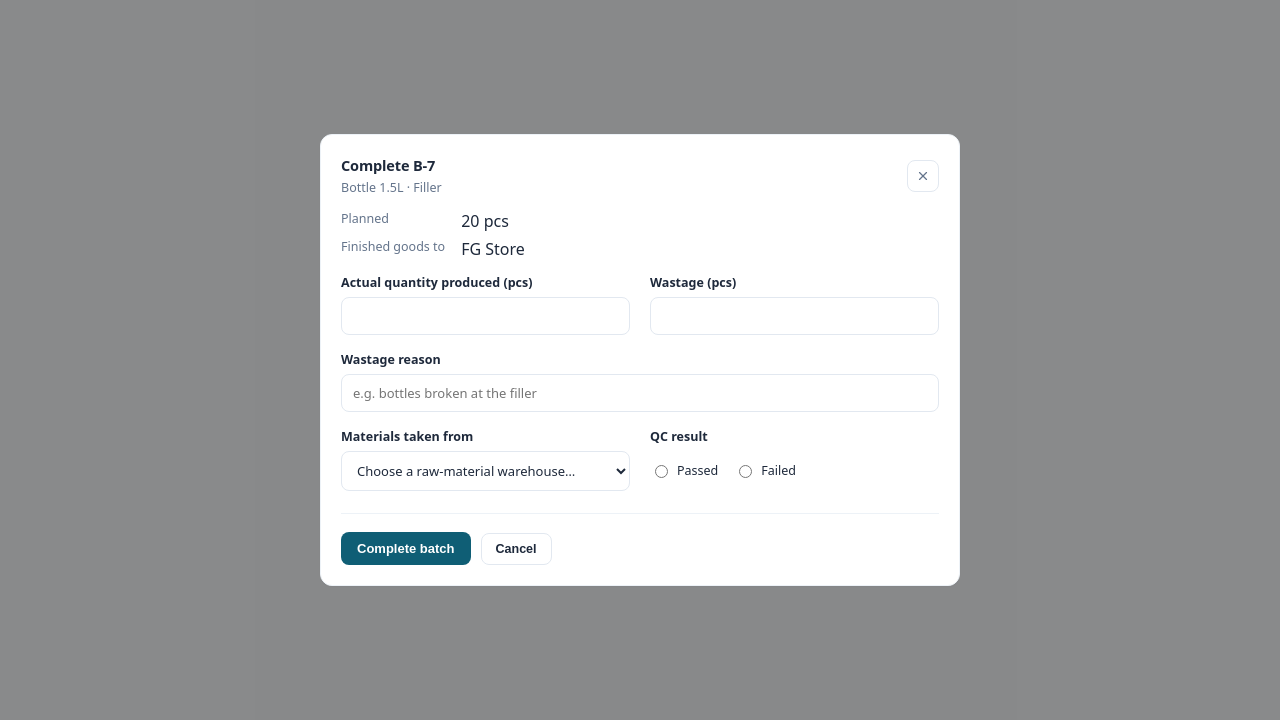
Test: Complete batch panel › requires a materials warehouse and a QC result, with a clear message, before calling the server
This screenshot has width=1280, height=720.
Type "20" into the number field labelled "Actual quantity produced (pcs)" at (486, 316), box [341,297,630,335]
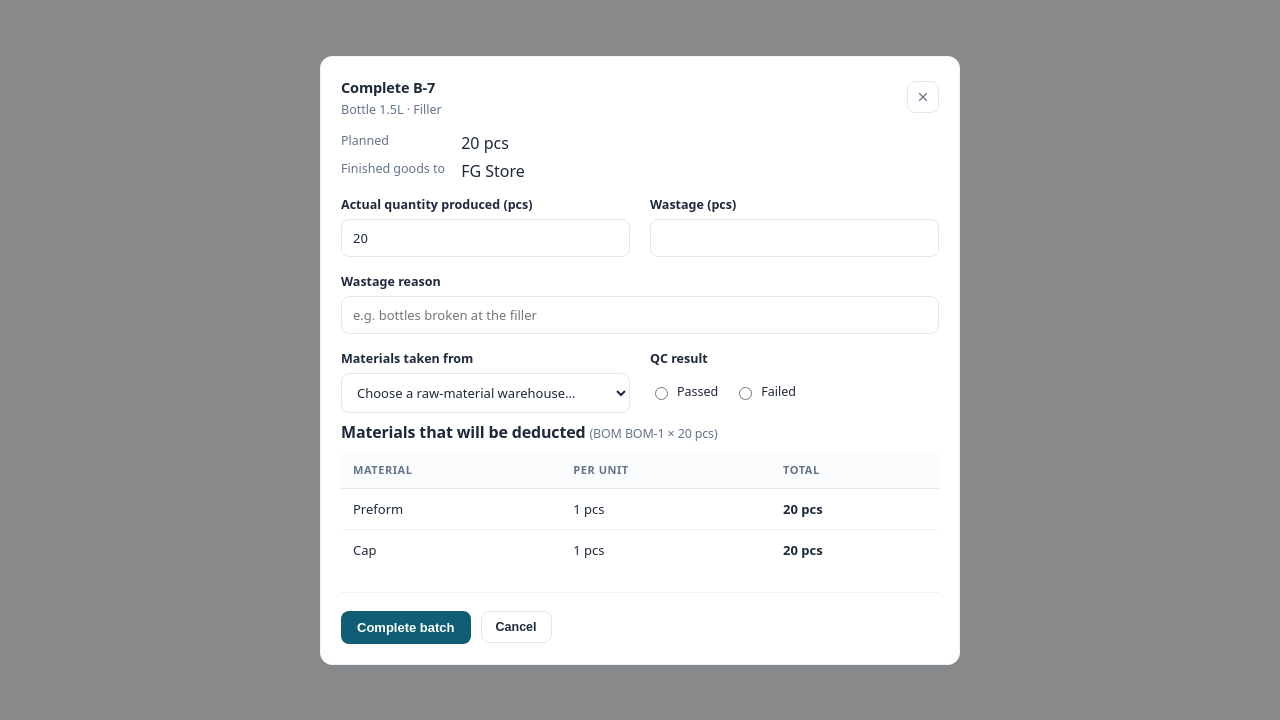
Click the button "Complete batch" at (406, 627), box [341,610,470,644]
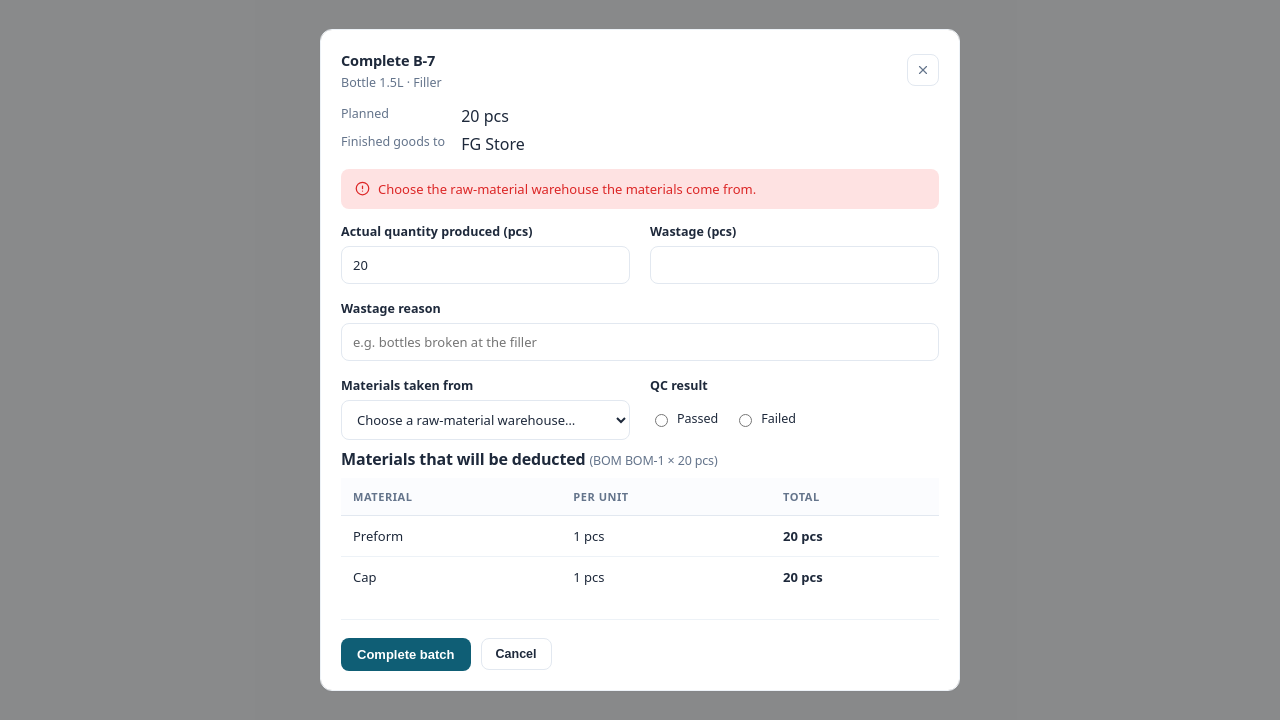
Check: the message shows "raw-material warehouse", box [378,180,756,198]
Select "Raw Store" in the dropdown labelled "Materials taken from" at (486, 420), box [341,400,630,440]
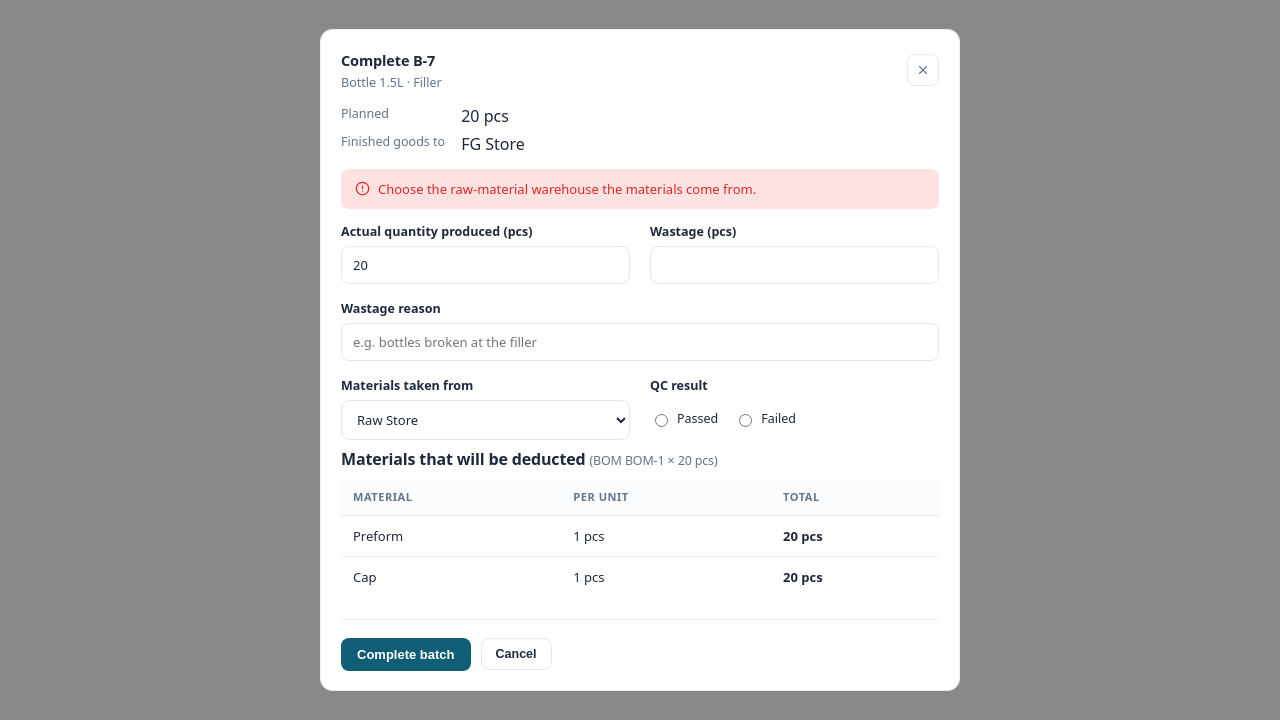
Click the button "Complete batch" at (406, 654), box [341,638,470,671]
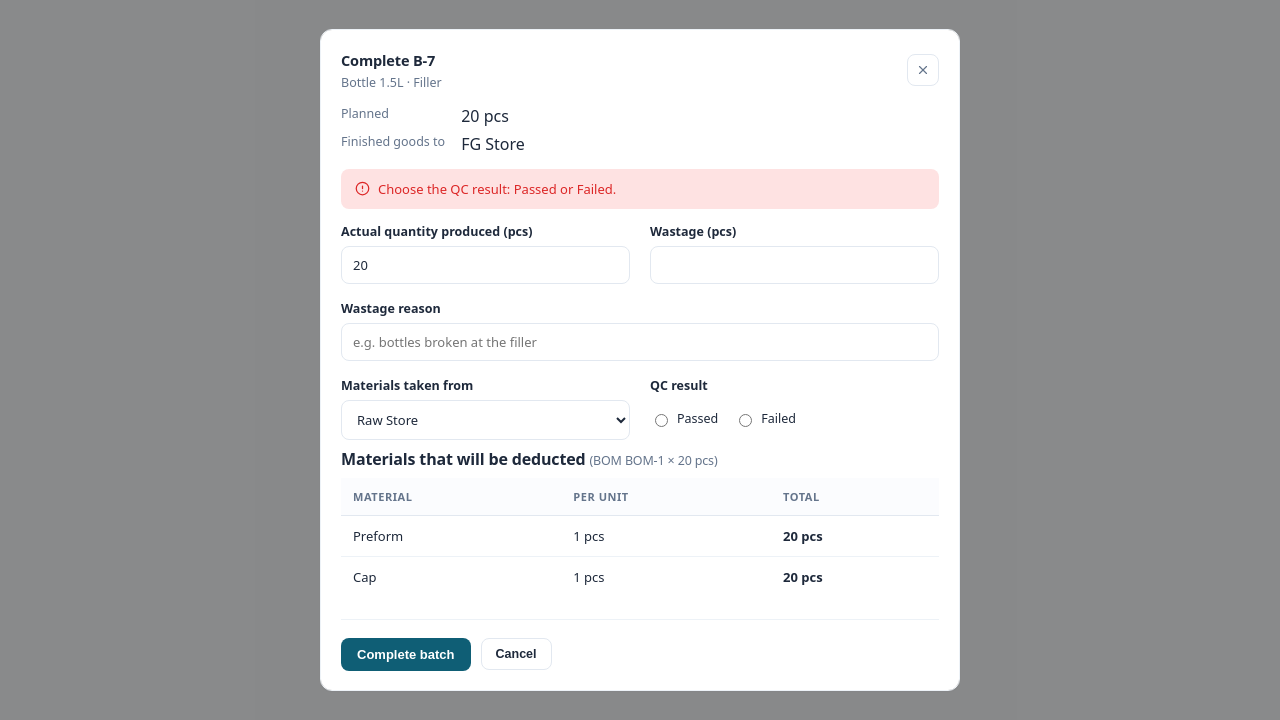
Check: the message shows "QC result", box [378,180,616,198]
